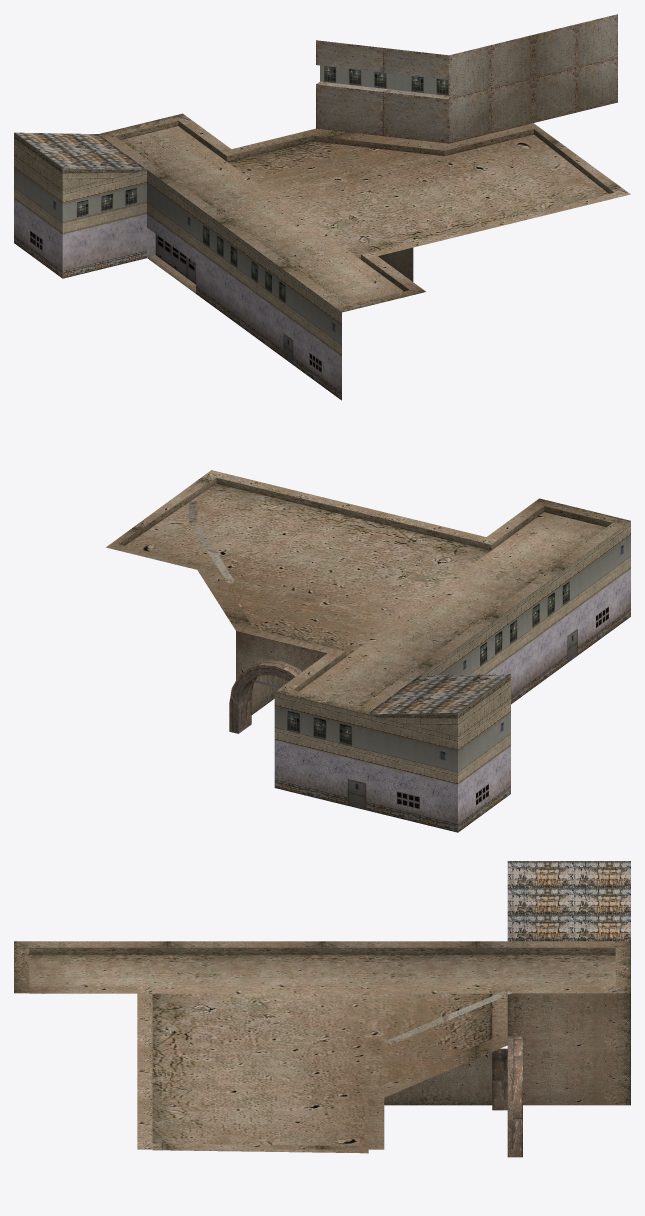
The model's file is M11Z1_TownWall07_B.glb.
3 renders of one model, top to bottom at view 1: azimuth 30°, elevation 25°; view 2: azimuth 150°, elevation 25°; view 3: azimuth 270°, elevation 25°, orthographic. The views are drawn at different scales.
Parts seen in each view (by area): view 1: M11Z1_TOWNWALL07_B; view 2: M11Z1_TOWNWALL07_B; view 3: M11Z1_TOWNWALL07_B.
Boxes of the visible parts, x1,y1,x2,y2 form: M11Z1_TOWNWALL07_B: (14,14,630,400); M11Z1_TOWNWALL07_B: (106,470,630,832); M11Z1_TOWNWALL07_B: (14,861,630,1157).
Size of the model in its own units: 48 by 16.1 by 40.
13 materials, 13 textured.
